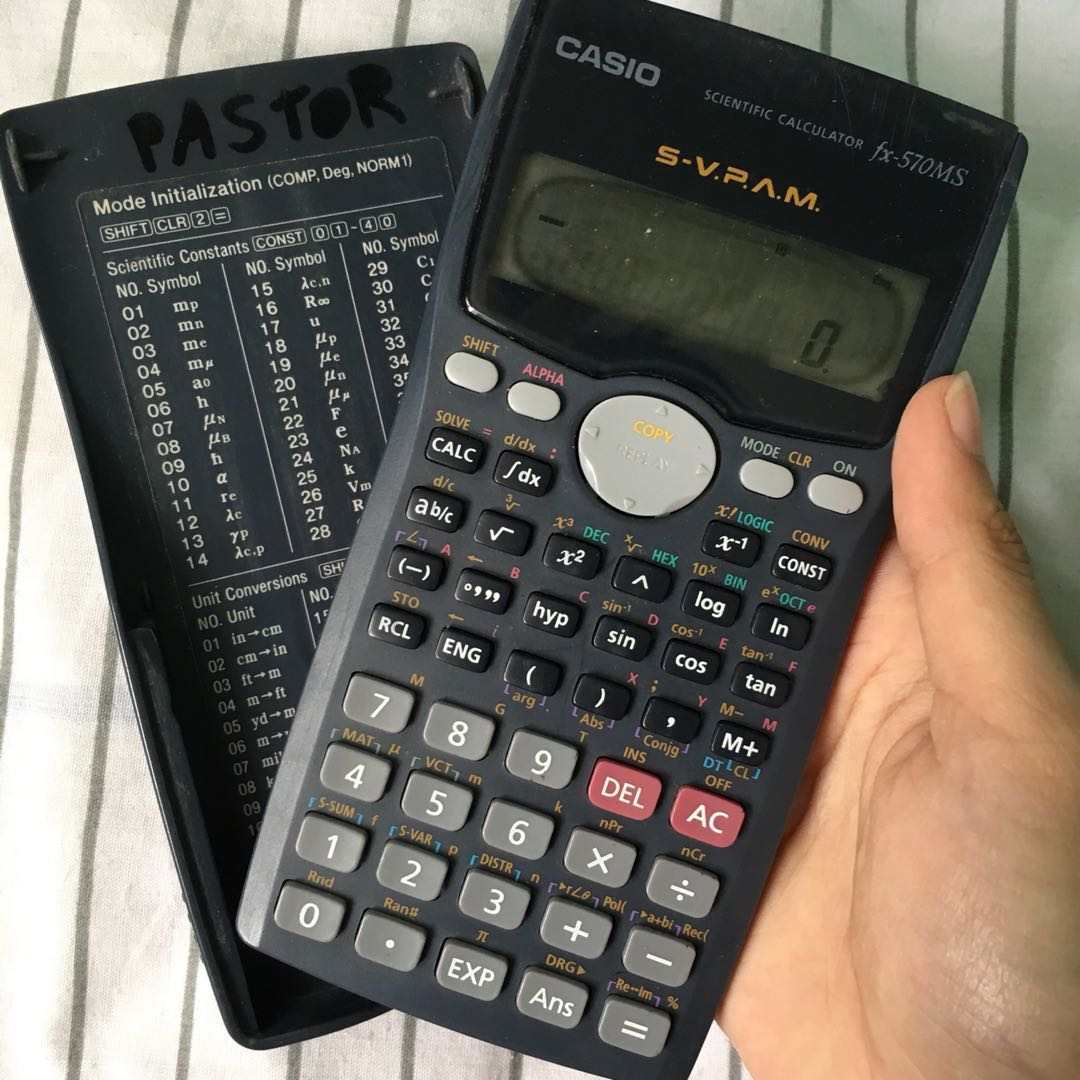Calculator: (218, 5, 1043, 1080)
